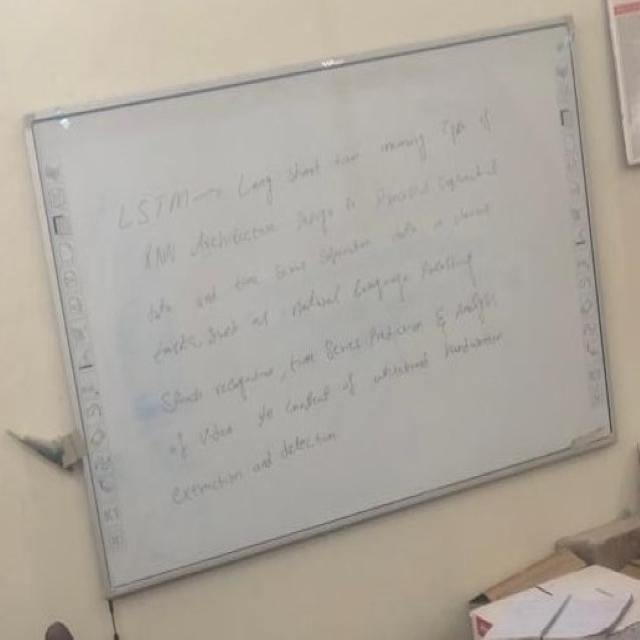White-board: (29, 23, 617, 607)
